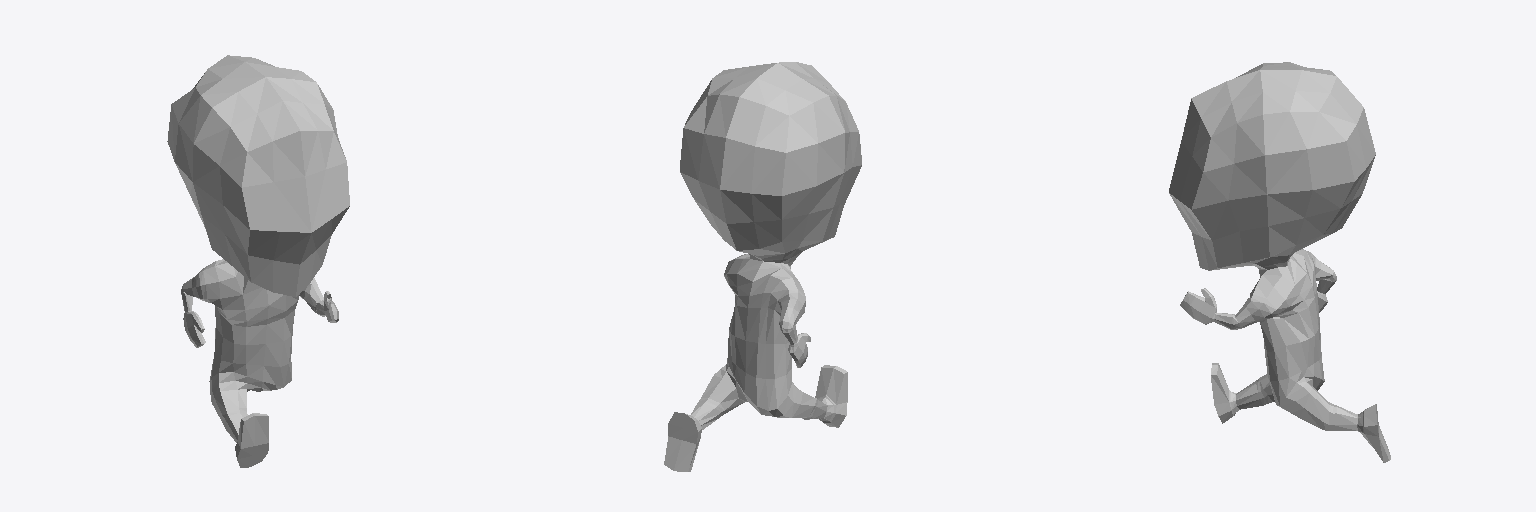
Rendered from char_000008.obj.
3 views of the same model, side by side, from view 1: azimuth 30°, elevation 25°; view 2: azimuth 150°, elevation 25°; view 3: azimuth 270°, elevation 25° (orthographic).
Visible parts, largest first — view 1: lp_guy_mesh_Cube; view 2: lp_guy_mesh_Cube; view 3: lp_guy_mesh_Cube.
Part boxes in pixels (left/top/right/bottom): lp_guy_mesh_Cube: left=167, top=55, right=349, bottom=467; lp_guy_mesh_Cube: left=664, top=62, right=861, bottom=471; lp_guy_mesh_Cube: left=1169, top=62, right=1390, bottom=462.
Bounding box in the file's own units: 0.7344 × 1.87 × 1.01.